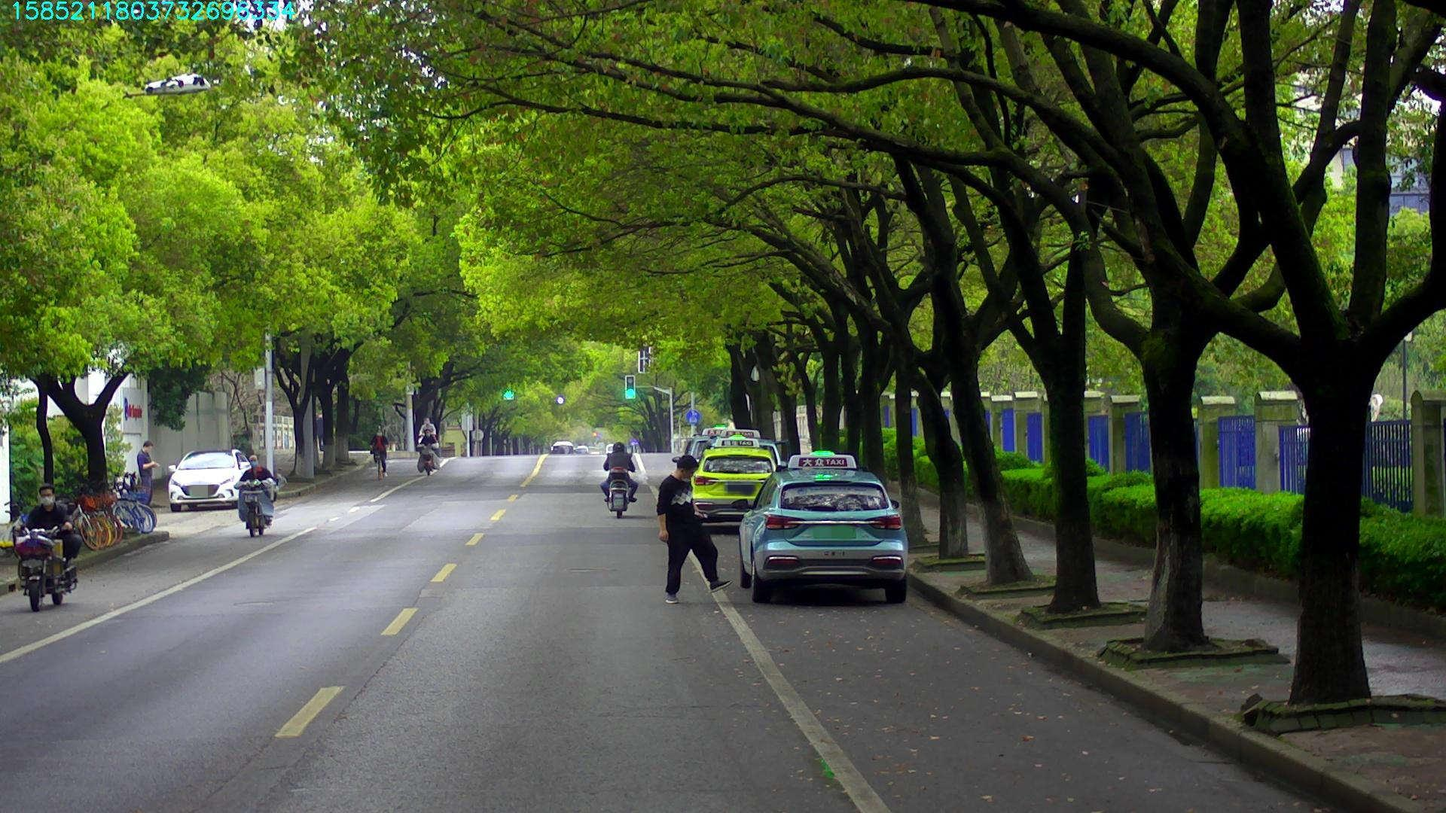green: (624, 375, 636, 399), (502, 389, 513, 400)
